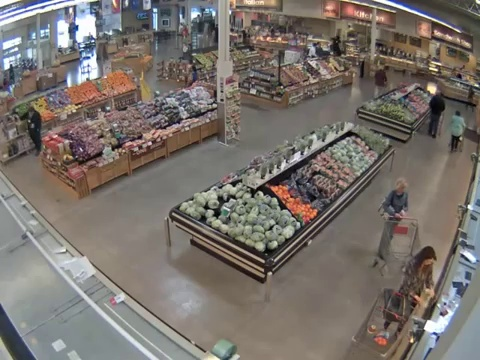face: (425, 253, 434, 267), (398, 182, 409, 193)
